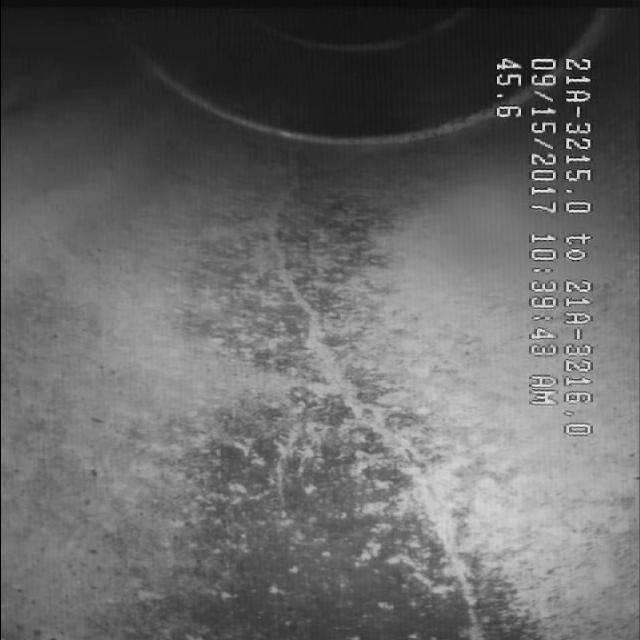Crack: (272, 235, 438, 546)
